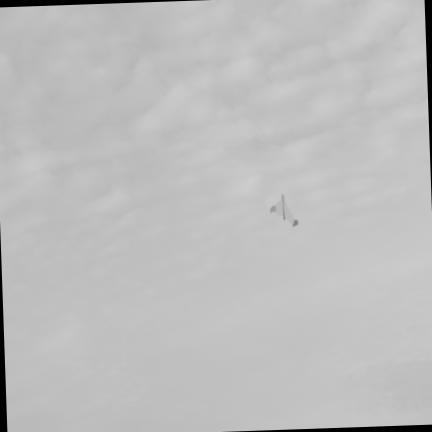Shahed: (271, 195, 298, 226)
